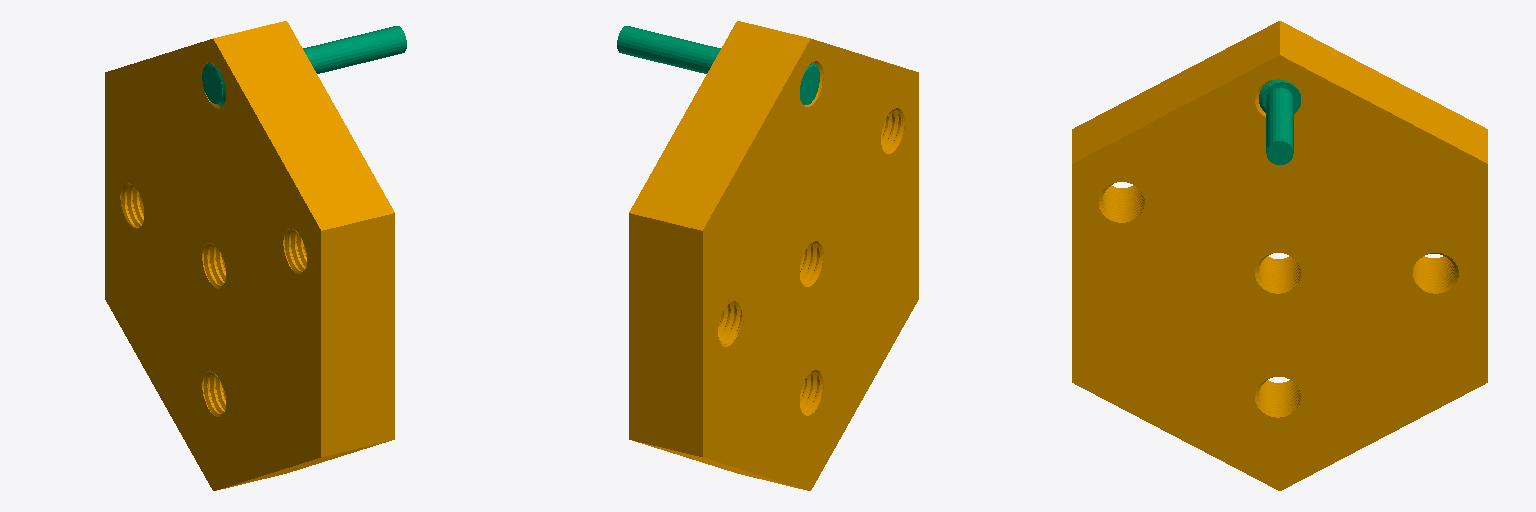
URDF robot description (Peg_insertion_2):
<?xml version="1.0"?>
<!--
  Peg insertion (Hole 2): five-hole plate + one threaded peg in hole 2 on a
  continuous revolute and a prismatic joint along the hole axis.
  Turns the plate normal to +X like the other mechanisms.
  PrismaticJoint = 0 seats the peg (its end flush with the plate back).
-->
<robot name="Peg_insertion_2">
  <link name="World">
    <inertial><origin xyz="0.0075 0 0" rpy="0 0 0" /><mass value="0.1008" /><inertia ixx="0.000114125" ixy="0" ixz="0" iyy="6.7105e-05" iyz="0" izz="5.08014e-05" /></inertial>
    <visual>
      <origin xyz="0 0 0" rpy="0 1.5707963 0" />
      <geometry><mesh filename="meshes/Base_principal_Corpo1.obj" scale="1 1 1" /></geometry>
    </visual>
    <collision>
      <origin xyz="0.0075 0 0" rpy="0 0 0" />
      <geometry><box size="0.015 0.076 0.076" /></geometry>
    </collision>
  </link>
  <link name="rot_pivot">
    <inertial><origin xyz="0 0 0" rpy="0 0 0" /><mass value="0.005" /><inertia ixx="1e-06" ixy="0" ixz="0" iyy="1e-06" iyz="0" izz="1e-06" /></inertial>
  </link>
  <link name="peg">
    <!-- CAD mass is ~2 g; 20 g keeps the grasp contacts stable. -->
    <inertial><origin xyz="0 0 0.019" rpy="0 0 0" /><mass value="0.02" /><inertia ixx="1e-06" ixy="0" ixz="0" iyy="1e-06" iyz="0" izz="1e-06" /></inertial>
    <visual>
      <origin xyz="0 0 0" rpy="0 0 0" />
      <geometry><mesh filename="meshes/Al__a_Corpo1.obj" scale="1 1 1" /></geometry>
    </visual>
    <collision>
      <origin xyz="0 0 0" rpy="0 0 0" />
      <geometry><mesh filename="meshes/Al__a_Corpo1.obj" scale="1 1 1" /></geometry>
    </collision>
  </link>
  <!-- Child frames have +Z along the hole, which is World +X. -->
  <joint name="RevoluteJoint" type="continuous">
    <origin xyz="0 0 0.034988" rpy="0 1.5707963 0" />
    <parent link="World" />
    <child link="rot_pivot" />
    <axis xyz="0 0 1" />
  </joint>
  <joint name="PrismaticJoint" type="prismatic">
    <origin xyz="0 0 0" rpy="0 0 0" />
    <parent link="rot_pivot" />
    <child link="peg" />
    <axis xyz="0 0 1" />
    <limit lower="0.0" upper="0.020" effort="100.0" velocity="1.0" />
  </joint>
</robot>

--- What the picture shows (computed from the rendered views, not written in the file) ---
The picture shows the robot from 3 angles, left to right: view 1: azimuth 30°, elevation 25°; view 2: azimuth 150°, elevation 25°; view 3: azimuth 270°, elevation 25°; orthographic projection.
Model Peg_insertion_2 with 3 links and 2 joints (1 continuous, 1 prismatic), rooted at World, posed every joint at zero.
Links seen in each view (by area): view 1: World, peg; view 2: World, peg; view 3: World, peg.
Link boxes in pixels (<box>): World: <box>105,21,394,490</box>; peg: <box>202,26,406,105</box>; World: <box>629,21,918,490</box>; peg: <box>617,26,819,104</box>; World: <box>1072,21,1487,490</box>; peg: <box>1259,79,1300,164</box>.
Bounding box of the posed robot: 0.038 × 0.0763 × 0.0881 m (x, y, z).
Meshes: 2 distinct files referenced, 2 mesh visuals loaded (2 OBJ).
